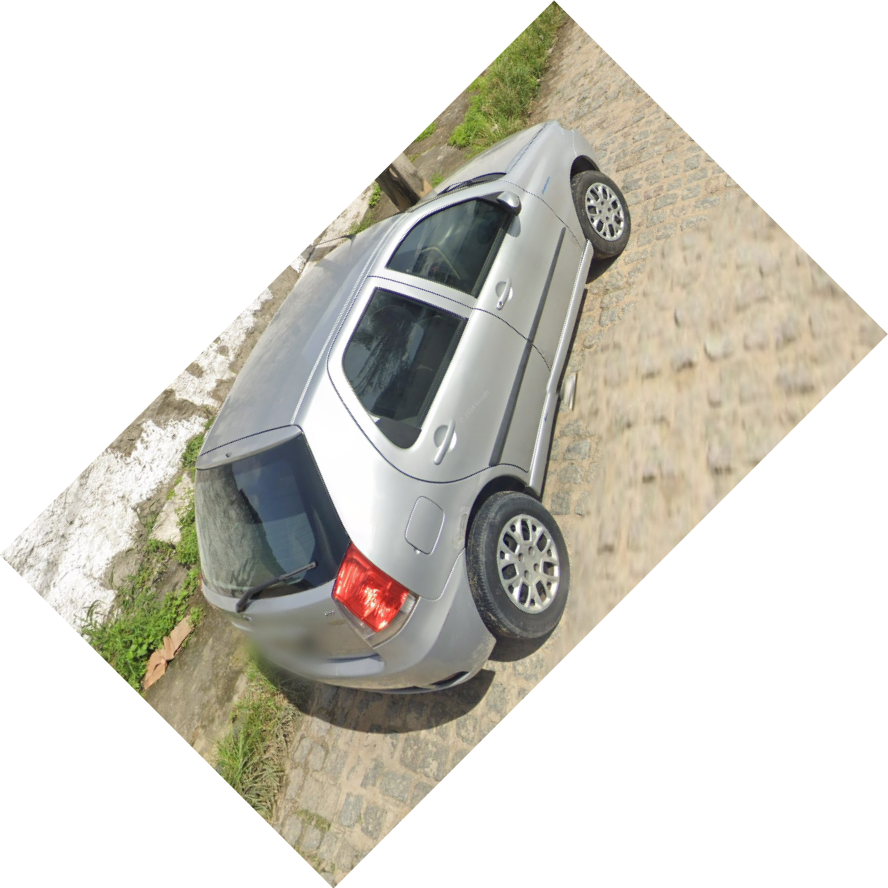car: (196, 116, 634, 706)
